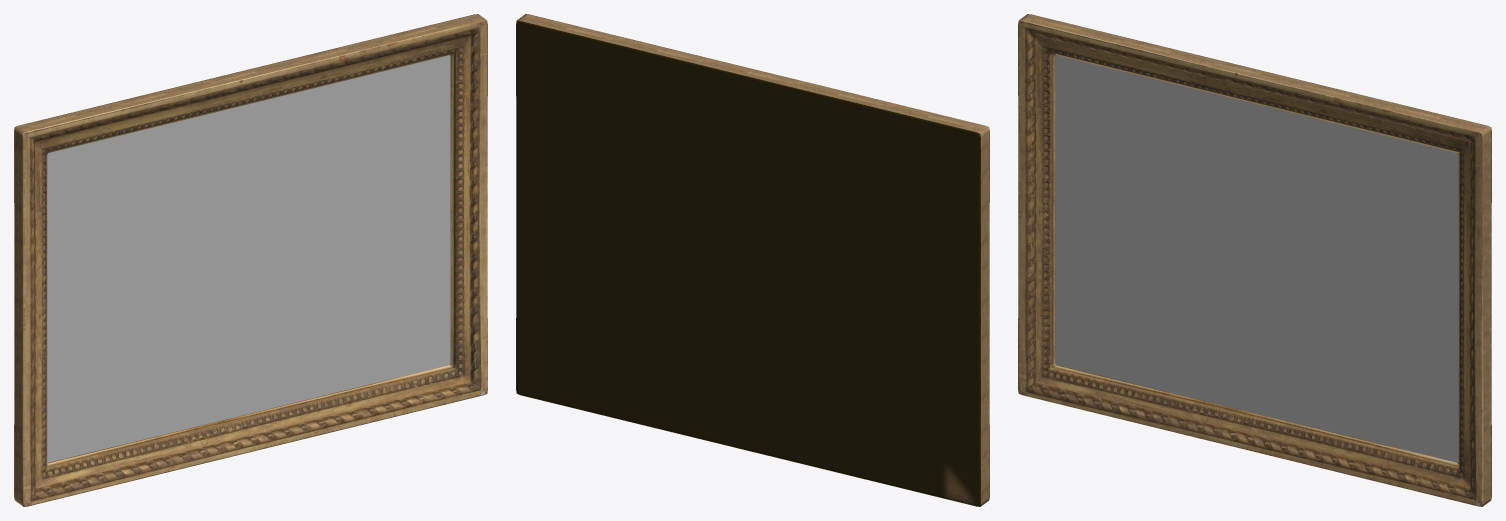
File: fancy_picture_frame_01_1k.gltf
3 views of the same model, side by side, from view 1: azimuth 30°, elevation 25°; view 2: azimuth 150°, elevation 25°; view 3: azimuth 330°, elevation 25° (orthographic).
Visible parts, largest first — view 1: fancy_picture_frame_01_canvas, fancy_picture_frame_01; view 2: fancy_picture_frame_01; view 3: fancy_picture_frame_01_canvas, fancy_picture_frame_01.
Part boxes in pixels (<box>): fancy_picture_frame_01_canvas: <box>47,55,450,462</box>; fancy_picture_frame_01: <box>14,14,487,506</box>; fancy_picture_frame_01: <box>516,14,989,506</box>; fancy_picture_frame_01_canvas: <box>1055,55,1458,462</box>; fancy_picture_frame_01: <box>1018,14,1491,506</box>.
Size of the model in its own units: 0.603 by 0.4641 by 0.02.
